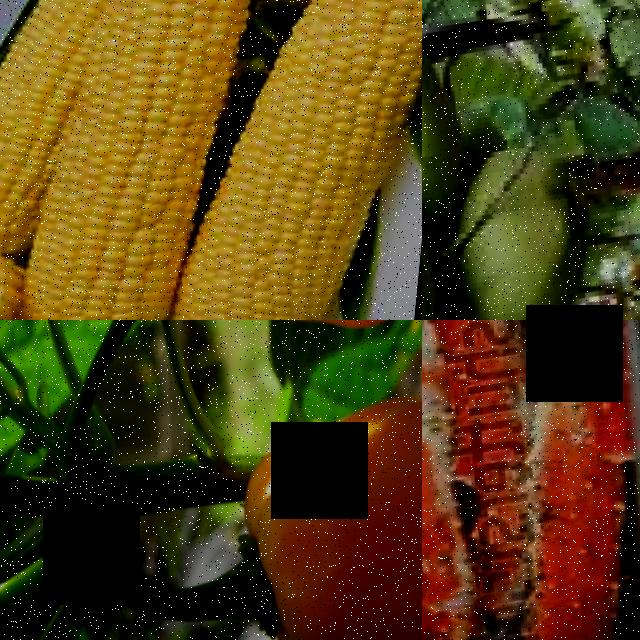coconut: (436, 122, 619, 320)
corn: (209, 58, 422, 254), (55, 26, 254, 211), (12, 171, 214, 320), (166, 204, 383, 320), (252, 0, 422, 110), (0, 0, 174, 104), (0, 91, 97, 243)
crab: (422, 320, 640, 640)
